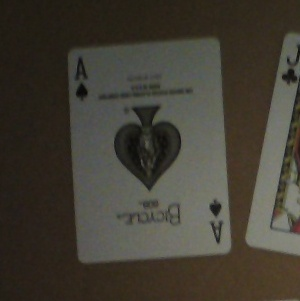card: (64, 37, 235, 264)
